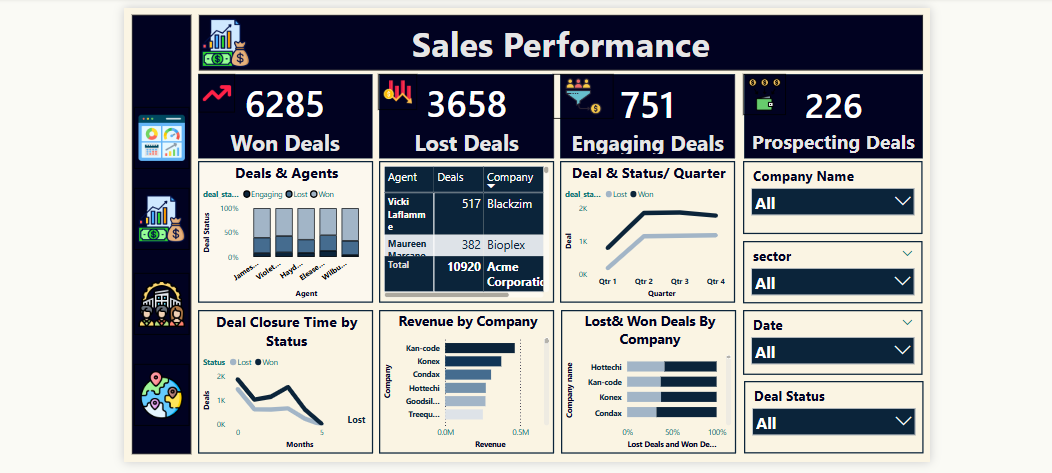

The dashboard page shown, as its layout file describes it:
{"tool":"powerbi","page":{"name":"Sales Performance","canvas":[1280,720],"ordinal":1},"visuals":[{"type":"shape","box":[12.3,10.8,93.8,696.9],"z":0},{"type":"image","box":[15.4,156.9,87.7,98.5],"z":1000},{"type":"image","box":[15.4,564.6,87.7,98.5],"z":2000},{"type":"image","box":[15.4,420,87.7,98.5],"z":3000},{"type":"image","box":[15.4,286.2,87.7,98.5],"z":4000},{"type":"shape","title":"dddd","box":[118.5,10.8,1149.2,87.7],"z":5000},{"type":"image","box":[117.9,6,88.1,98.5],"z":6000},{"type":"card","fields":{"Values":["sales_pipeline.Won Orders"]},"box":[117.9,104.5,277,134.3],"z":7000},{"type":"card","fields":{"Values":["sales_pipeline.Lost Orders"]},"box":[404.5,104.5,277.6,134.3],"z":8000},{"type":"card","fields":{"Values":["sales_pipeline.Engaging Orders"]},"box":[692.5,104.5,277.6,134.3],"z":9000},{"type":"card","fields":{"Values":["sales_pipeline.Prospecting Orders"]},"box":[983.6,104.5,283.6,134.3],"z":10000},{"type":"hundredPercentStackedColumnChart","title":"Deals & Agents","fields":{"Category":["sales_pipeline.sales_agent"],"Y":["Count(sales_pipeline.opportunity_id)"],"Series":["sales_pipeline.deal_stage"]},"box":[117.9,243.3,277.6,225.4],"z":11000},{"type":"pivotTable","fields":{"Rows":["sales_pipeline.sales_agent"],"Values":["CountNonNull(sales_pipeline.opportunity_id)","Min(sales_pipeline.Company name)"]},"box":[404.5,243.3,277.6,225.4],"z":12000},{"type":"areaChart","title":"Deal & Status/ Quarter","fields":{"Category":["sales_pipeline.close_date.Variation.Date Hierarchy.Quarter"],"Series":["sales_pipeline.deal_stage"],"Y":["CountNonNull(sales_pipeline.opportunity_id)"]},"box":[692.5,243.3,277.6,225.4],"z":13000},{"type":"lineChart","title":"Deal Closure Time by Status","fields":{"Category":["sales_pipeline.deal'Month"],"Series":["sales_pipeline.deal_stage"],"Y":["CountNonNull(sales_pipeline.opportunity_id)"]},"box":[117.9,479.1,277.6,228.4],"z":14000},{"type":"barChart","fields":{"Category":["sales_pipeline.Company name"],"Y":["Sum(sales_pipeline.close_value)"]},"box":[404,479,278,228],"z":15000},{"type":"hundredPercentStackedBarChart","title":"Lost& Won Deals By Company ","fields":{"Category":["sales_pipeline.Company name"],"Y":["sales_pipeline.Lost Orders","sales_pipeline.Won Orders"]},"box":[693,479,278,228],"z":16000},{"type":"slicer","fields":{"Values":["sales_pipeline.Company name"]},"box":[982.1,243.3,285.1,116.4],"z":17000},{"type":"slicer","fields":{"Values":["sales_pipeline.deal_stage"]},"box":[983.6,592.4,284.9,114.8],"z":18000},{"type":"slicer","fields":{"Values":["sales_pipeline.sector"]},"box":[982.2,369.9,284.9,99.2],"z":19000},{"type":"slicer","fields":{"Values":["sales_pipeline.close_date"]},"box":[982.2,479.1,284.9,103.5],"z":20000},{"type":"image","box":[403.9,104.9,62.4,56.7],"z":21000},{"type":"image","box":[119.1,104.9,56.7,60.9],"z":22000},{"type":"image","box":[681.7,104.9,96.4,70.9],"z":23000},{"type":"image","box":[982.2,104.9,68,65.2],"z":24000}]}

Visuals, with their boxes in screenshot pixels (x1, y1, x2, y2):
shape: (x1=131, y1=12, x2=190, y2=449)
image: (x1=133, y1=104, x2=188, y2=165)
image: (x1=133, y1=359, x2=188, y2=421)
image: (x1=133, y1=268, x2=188, y2=330)
image: (x1=133, y1=185, x2=188, y2=246)
"dddd" shape: (x1=197, y1=12, x2=917, y2=67)
image: (x1=197, y1=9, x2=252, y2=71)
card - sales_pipeline.Won Orders: (x1=197, y1=71, x2=371, y2=155)
card - sales_pipeline.Lost Orders: (x1=377, y1=71, x2=550, y2=155)
card - sales_pipeline.Engaging Orders: (x1=557, y1=71, x2=731, y2=155)
card - sales_pipeline.Prospecting Orders: (x1=739, y1=71, x2=917, y2=155)
"Deals & Agents" hundredPercentStackedColumnChart: (x1=197, y1=158, x2=371, y2=299)
pivotTable - sales_pipeline.sales_agent x CountNonNull(sales_pipeline.opportunity_id): (x1=377, y1=158, x2=550, y2=299)
"Deal & Status/ Quarter" areaChart: (x1=557, y1=158, x2=731, y2=299)
"Deal Closure Time by Status" lineChart: (x1=197, y1=305, x2=371, y2=448)
barChart - sales_pipeline.Company name x Sum(sales_pipeline.close_value): (x1=376, y1=305, x2=550, y2=448)
"Lost& Won Deals By Company " hundredPercentStackedBarChart: (x1=557, y1=305, x2=731, y2=448)
slicer - sales_pipeline.Company name: (x1=738, y1=158, x2=917, y2=231)
slicer - sales_pipeline.deal_stage: (x1=739, y1=376, x2=918, y2=448)
slicer - sales_pipeline.sector: (x1=738, y1=237, x2=917, y2=299)
slicer - sales_pipeline.close_date: (x1=738, y1=305, x2=917, y2=370)
image: (x1=376, y1=71, x2=415, y2=107)
image: (x1=198, y1=71, x2=233, y2=109)
image: (x1=550, y1=71, x2=610, y2=116)
image: (x1=738, y1=71, x2=781, y2=112)
